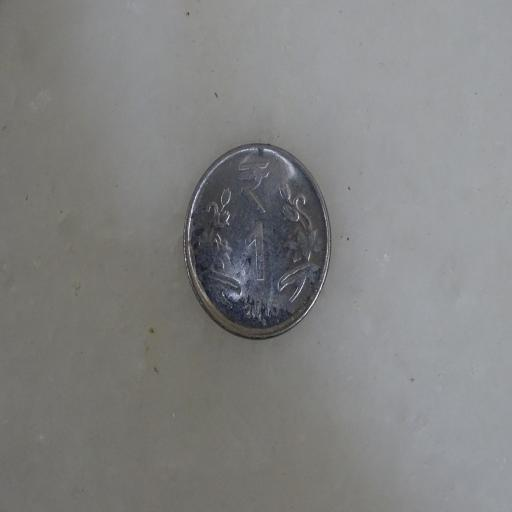rupee1: (180, 143, 333, 342)
